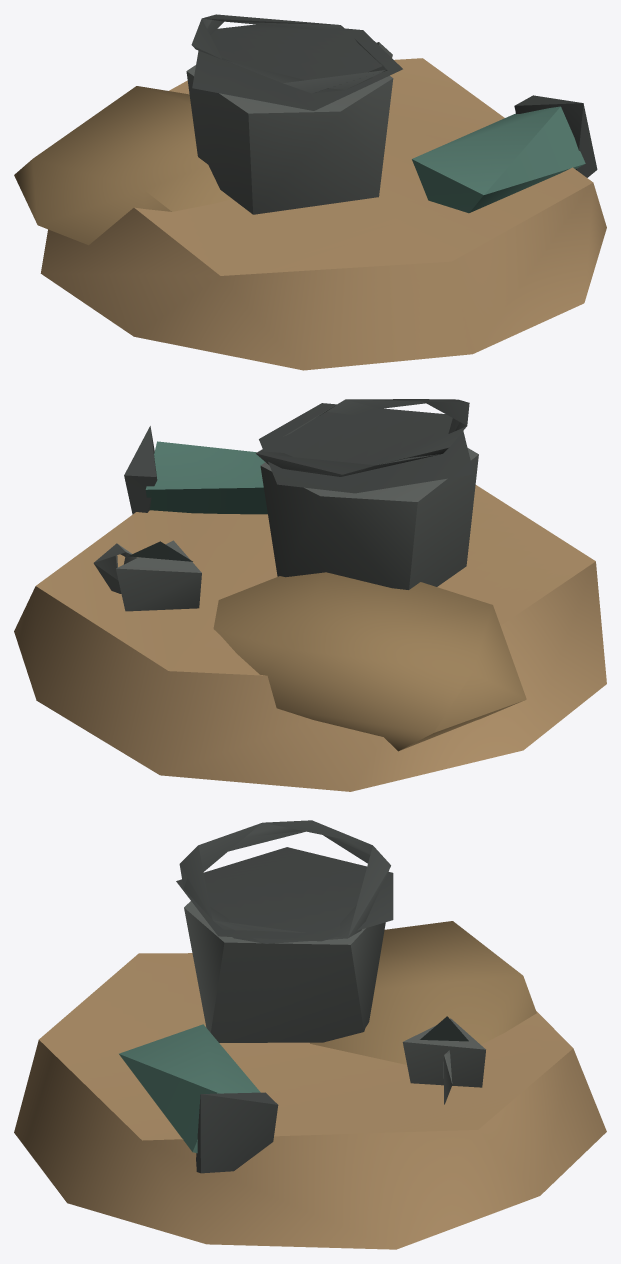
Rendered from lunch_pail_a_lod2.glb.
3 renders of one model, top to bottom at view 1: azimuth 30°, elevation 25°; view 2: azimuth 150°, elevation 25°; view 3: azimuth 270°, elevation 25°, orthographic. The views are drawn at different scales.
Visible parts, largest first — view 1: Surface.001; view 2: Surface.001; view 3: Surface.001.
Boxes of the visible parts, <box> form: Surface.001: <box>14,14,606,370</box>; Surface.001: <box>14,399,606,791</box>; Surface.001: <box>14,820,606,1249</box>.
Bounding box in the file's own units: 2.43 × 1.15 × 2.5.
